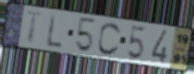4: (149, 29, 171, 65)
5: (74, 17, 98, 54), (126, 24, 149, 61)
C: (97, 21, 123, 57)
L: (46, 12, 64, 49)
T: (25, 9, 45, 45)
